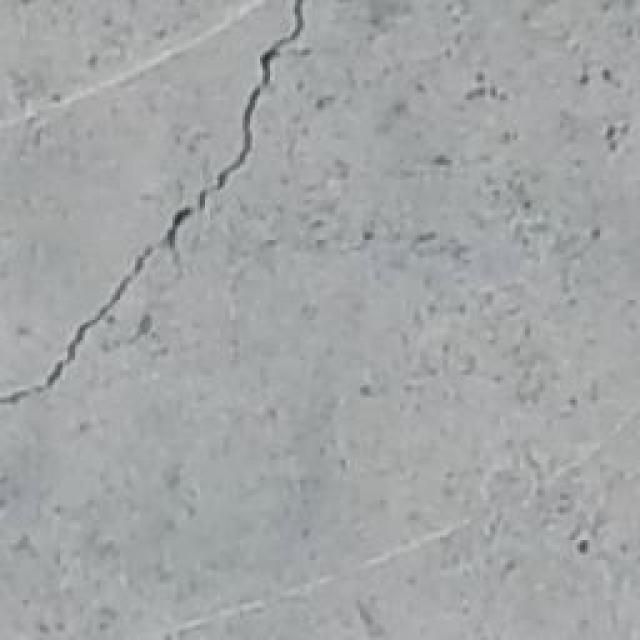concrete-crack: (0, 0, 308, 410)
